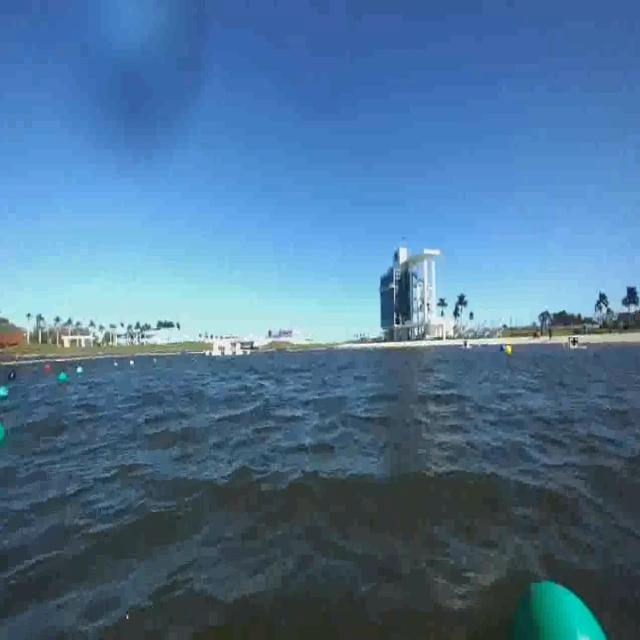green-buoy: (490, 564, 638, 640), (59, 372, 69, 386), (0, 387, 10, 399)
yellow-buoy: (505, 344, 512, 358)
